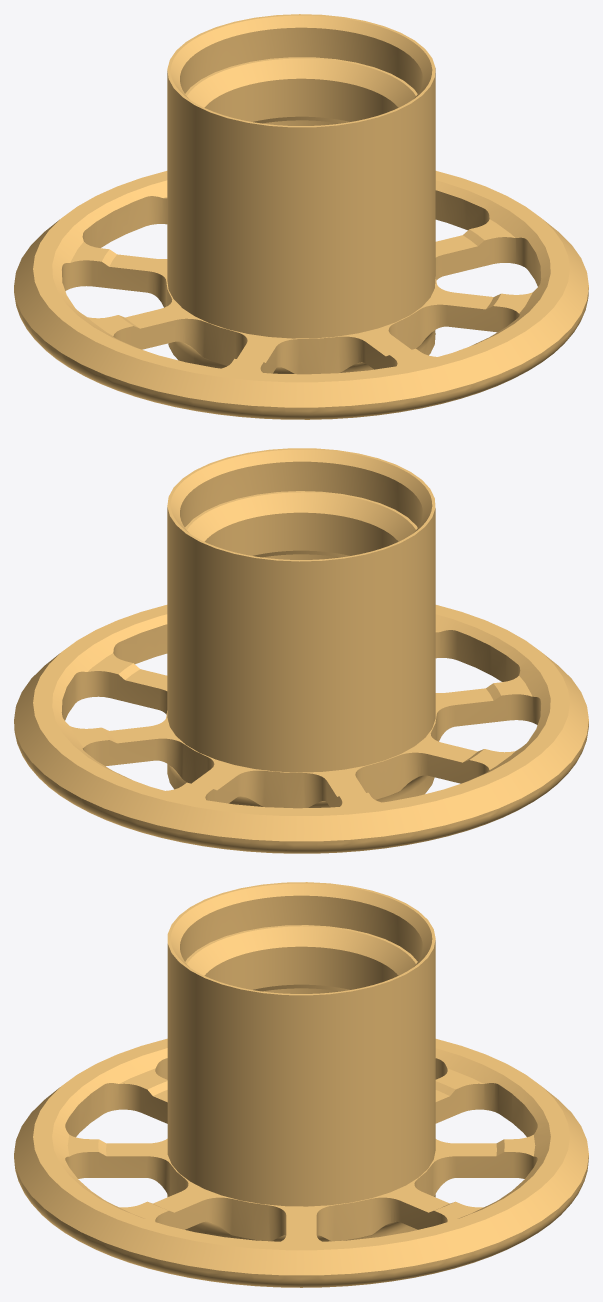
The model's file is UA_26EV_Quick_Release_hub__UA_26EV_Quick_Release_Assembly_1.dae.
The picture shows the model from 3 angles, top to bottom: view 1: azimuth 30°, elevation 25°; view 2: azimuth 150°, elevation 25°; view 3: azimuth 270°, elevation 25°; orthographic projection.
Parts seen in each view (by area): view 1: node0; view 2: node0; view 3: node0.
Boxes of the visible parts, x1,y1,x2,y2 form: node0: (14,14,588,419); node0: (14,448,588,853); node0: (14,882,588,1287).
Size of the model in its own units: 0.0755 by 0.0387 by 0.0755.
